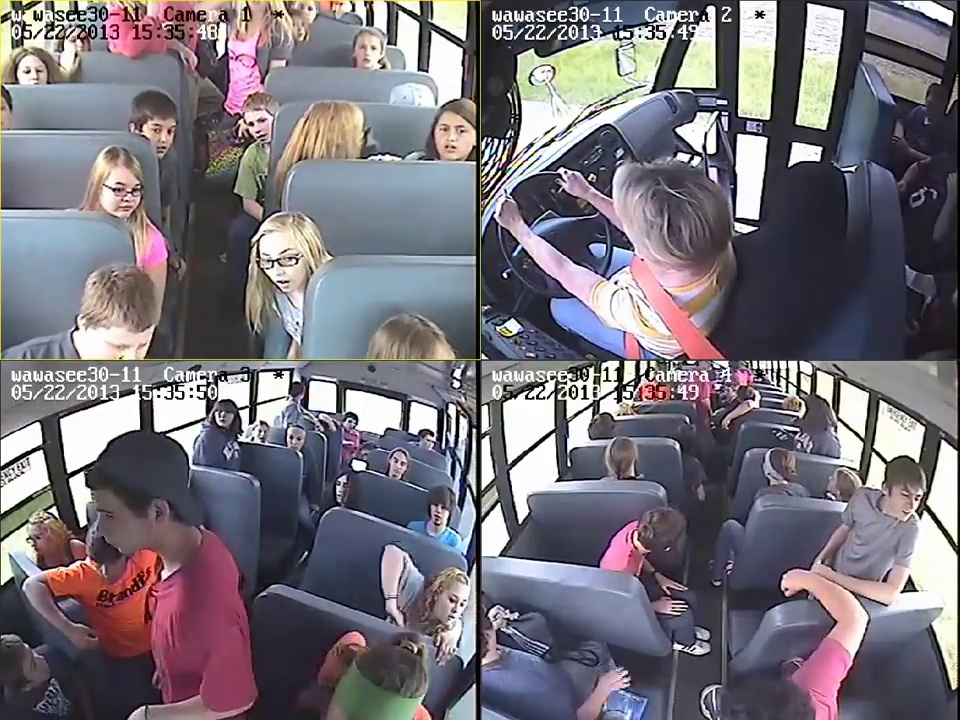face: (260, 231, 310, 292), (95, 317, 149, 356), (100, 169, 140, 218), (432, 118, 472, 157), (436, 581, 466, 623), (245, 105, 275, 142), (893, 478, 919, 519), (147, 116, 175, 154), (354, 34, 378, 68), (16, 56, 45, 84), (429, 497, 450, 524), (336, 477, 353, 504), (213, 406, 234, 425), (284, 432, 306, 450), (251, 425, 270, 442), (345, 419, 356, 430)
